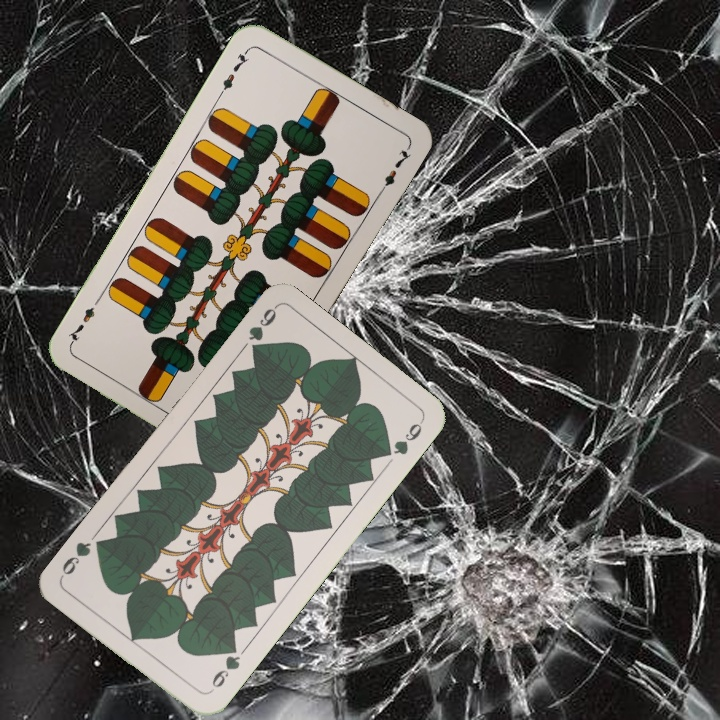E7: (215, 45, 252, 98)
G9: (244, 302, 280, 355), (207, 640, 243, 691)
